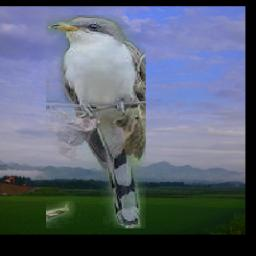Cuckoo: (46, 16, 146, 229)
